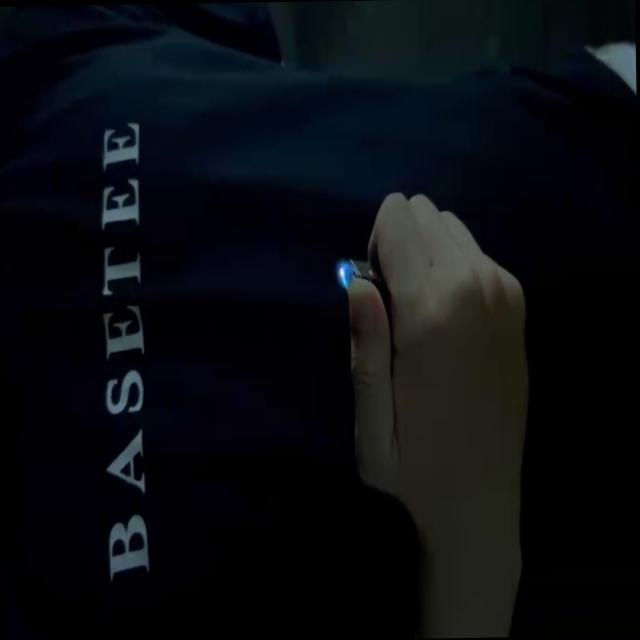Fire: (339, 258, 355, 286)
